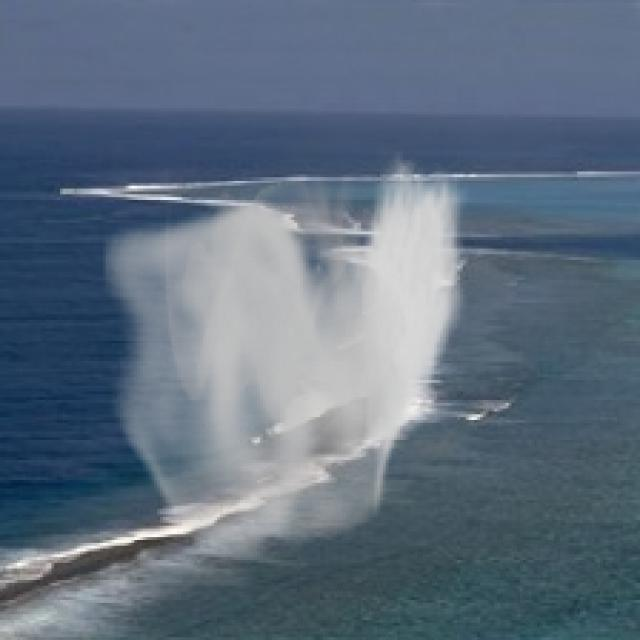Smoke: (102, 152, 468, 568)
